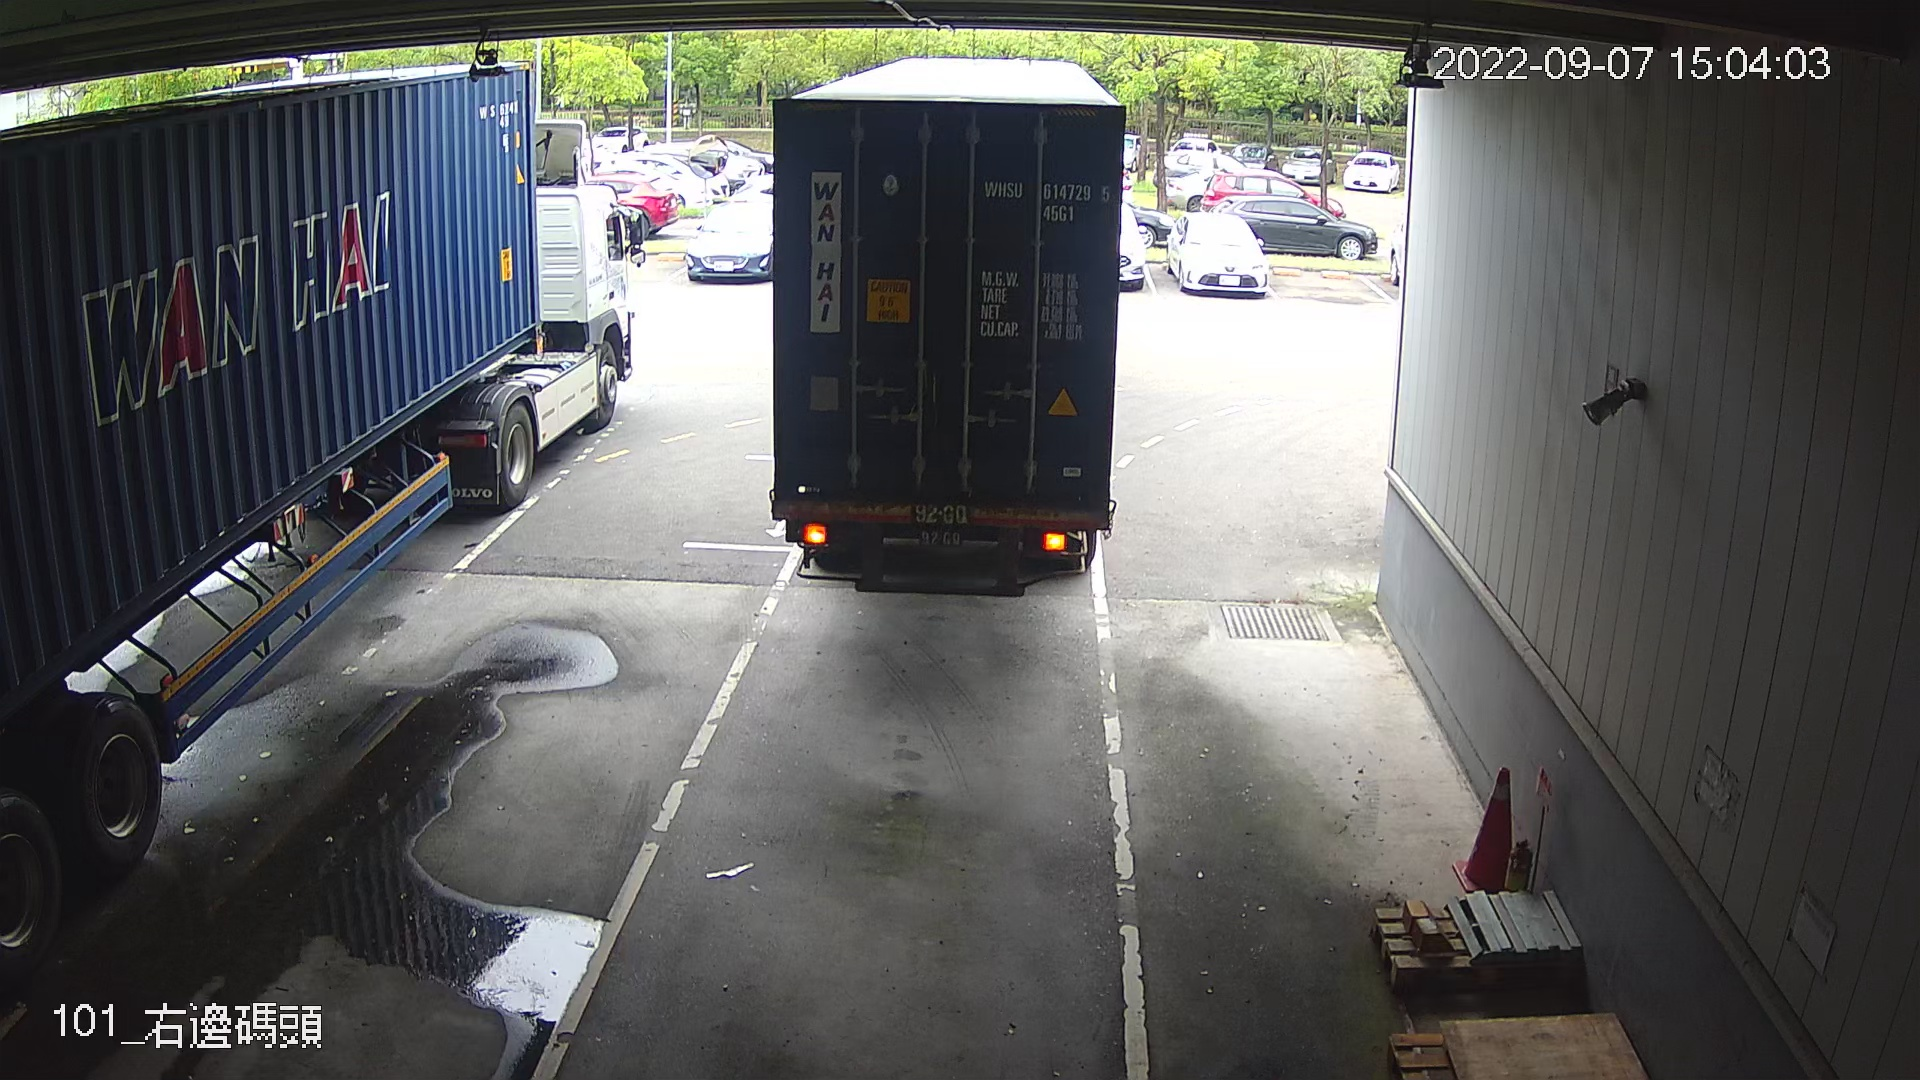container: (978, 169, 1116, 229)
